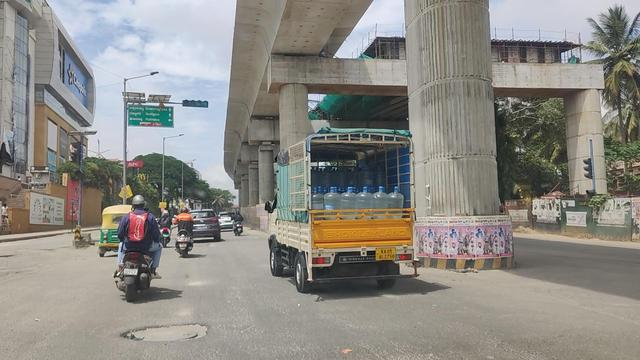HMV: (266, 123, 423, 297)
LMV: (119, 193, 156, 301), (175, 204, 195, 259)
RoadDamages: (121, 315, 207, 345)
